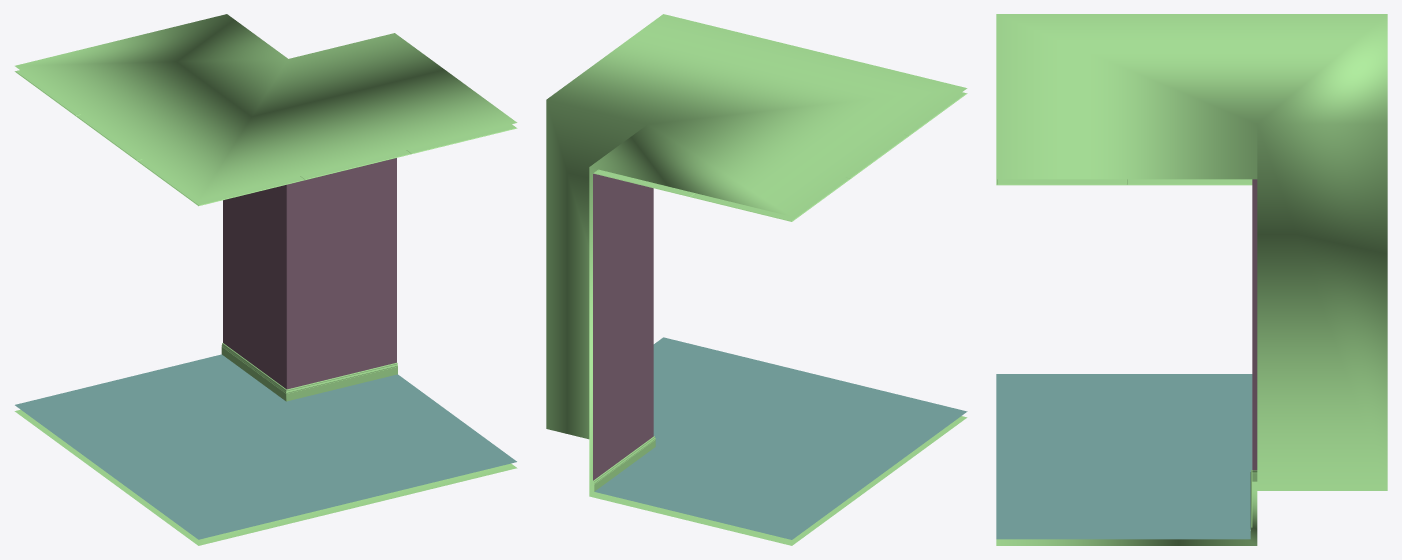
The model's file is Room_2x2_corner_out_geo.fbx.
3 renders of one model, left to right at view 1: azimuth 30°, elevation 25°; view 2: azimuth 150°, elevation 25°; view 3: azimuth 270°, elevation 25°, orthographic. The views are drawn at different scales.
Parts seen in each view (by area): view 1: Room_2x2_corner_out_geo; view 2: Room_2x2_corner_out_geo; view 3: Room_2x2_corner_out_geo.
Part boxes in pixels (x1=…): Room_2x2_corner_out_geo: x1=14, y1=14, x2=517, y2=545; Room_2x2_corner_out_geo: x1=546, y1=14, x2=967, y2=545; Room_2x2_corner_out_geo: x1=996, y1=14, x2=1387, y2=545.
Size of the model in its own units: 3 by 3.1 by 3.
